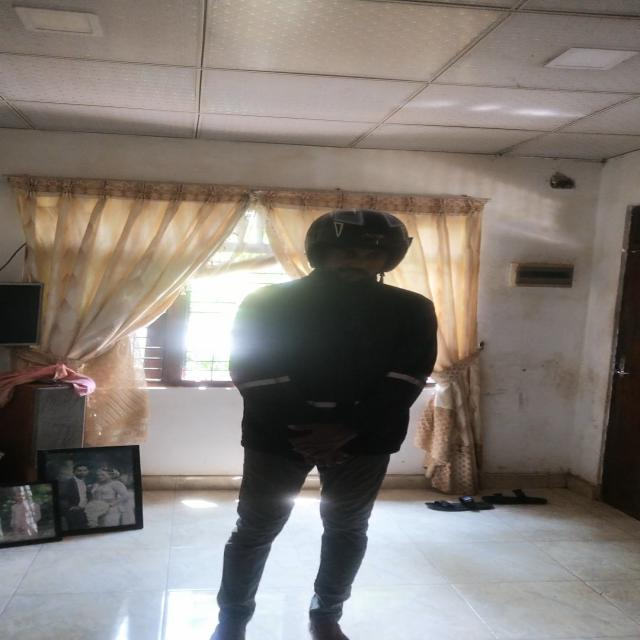Helmet_Wearer: (274, 202, 416, 298)
Jacket_Wearer: (233, 274, 446, 488)
Person: (216, 205, 444, 640)
